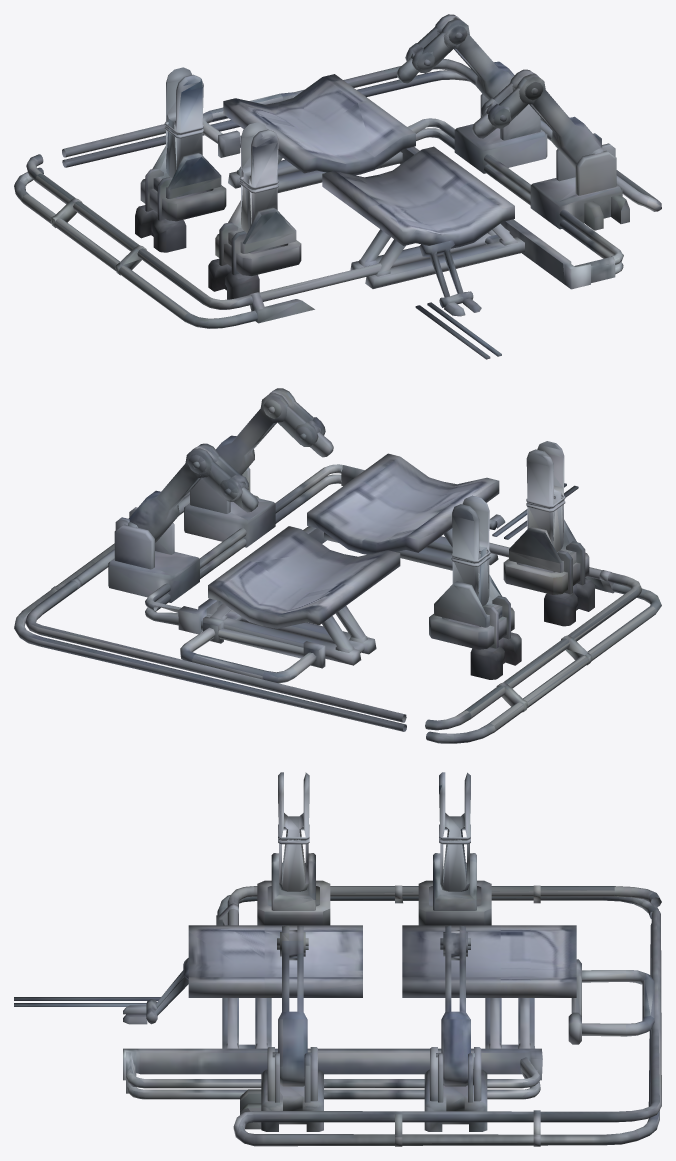
File: 整備庫_09_裝配平台.glb
The picture shows the model from 3 angles, top to bottom: view 1: azimuth 30°, elevation 25°; view 2: azimuth 150°, elevation 25°; view 3: azimuth 270°, elevation 25°; orthographic projection. The views are drawn at different scales.
Parts seen in each view (by area): view 1: 09_裝配平台; view 2: 09_裝配平台; view 3: 09_裝配平台.
Boxes of the visible parts, <box> form: 09_裝配平台: <box>14,14,661,359</box>; 09_裝配平台: <box>14,388,661,743</box>; 09_裝配平台: <box>14,772,661,1146</box>.
Bounding box in the file's own units: 0.2813 × 0.0908 × 0.3081.
Materials: 1 (1 with a texture image).
